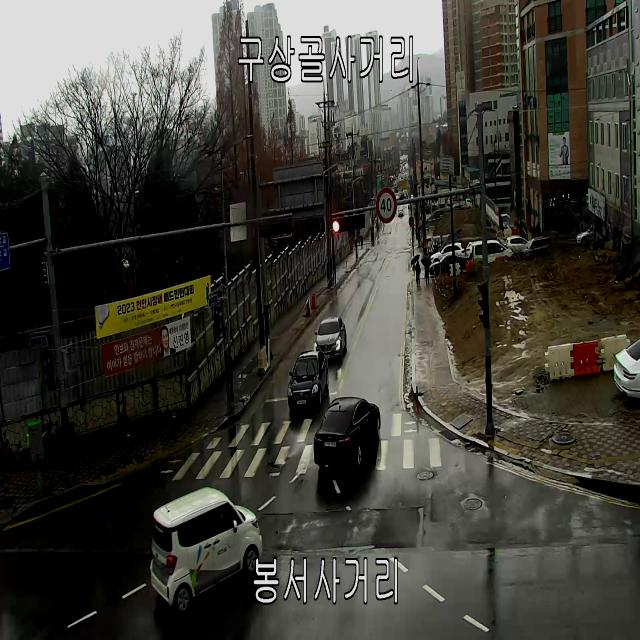Car: (149, 485, 262, 614), (314, 396, 382, 470), (288, 349, 328, 409), (613, 334, 640, 398), (314, 317, 346, 362), (471, 241, 513, 264), (430, 242, 465, 265), (429, 255, 467, 276), (524, 237, 552, 258), (576, 224, 593, 246), (460, 198, 472, 209), (466, 242, 472, 258), (398, 208, 404, 216)
